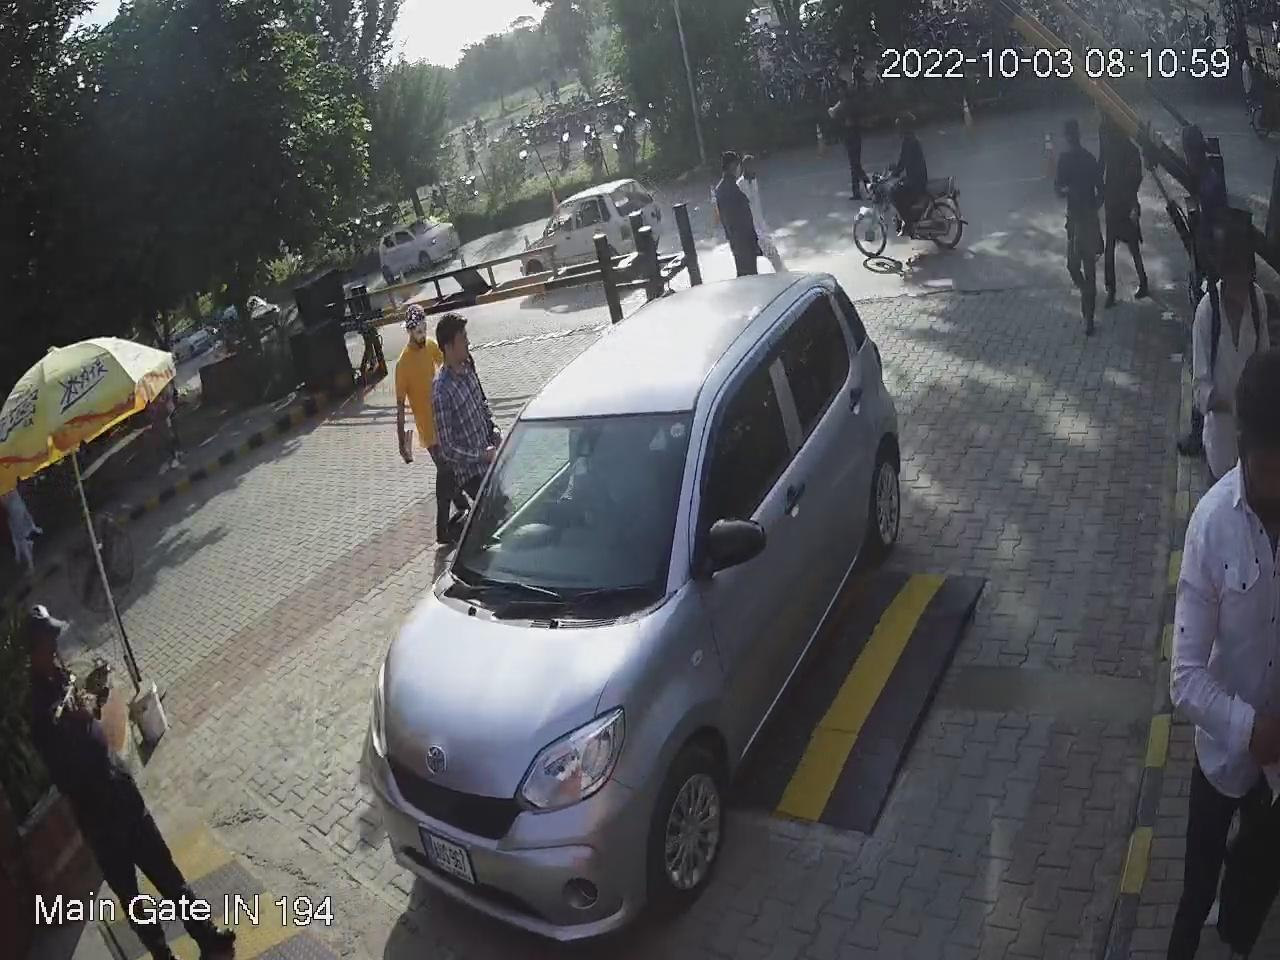windshield: (443, 402, 703, 610)
